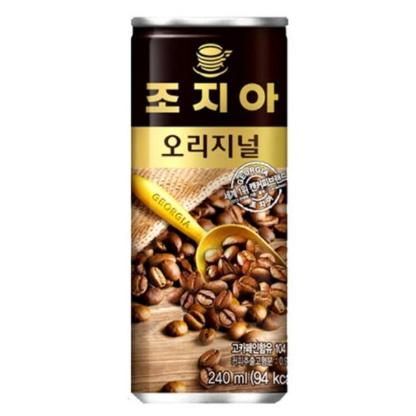Can: (129, 16, 290, 408)
